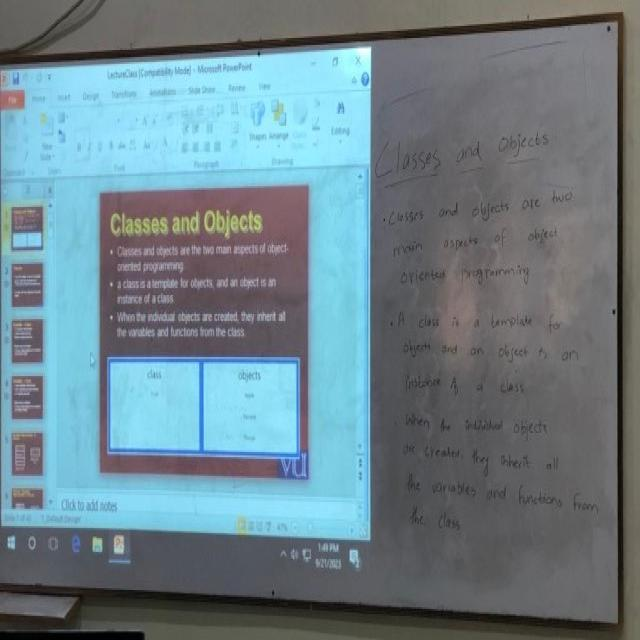Slide: (0, 37, 376, 581)
White-board: (0, 16, 622, 624)
